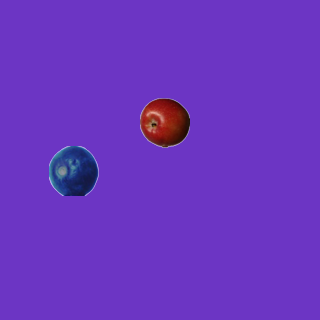Apple Braeburn: (139, 97, 189, 147)
Huckleberry: (48, 145, 98, 195)
